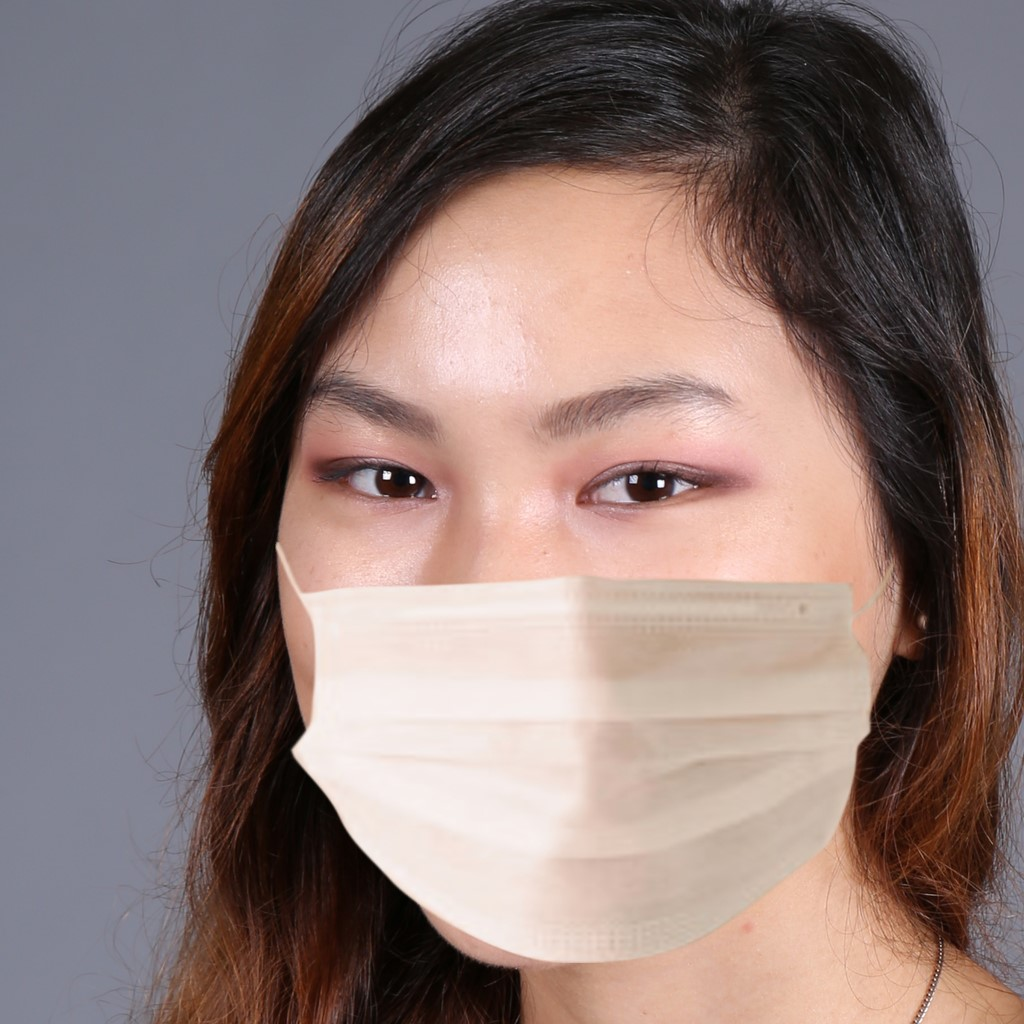con_mascara: (261, 129, 921, 965)
